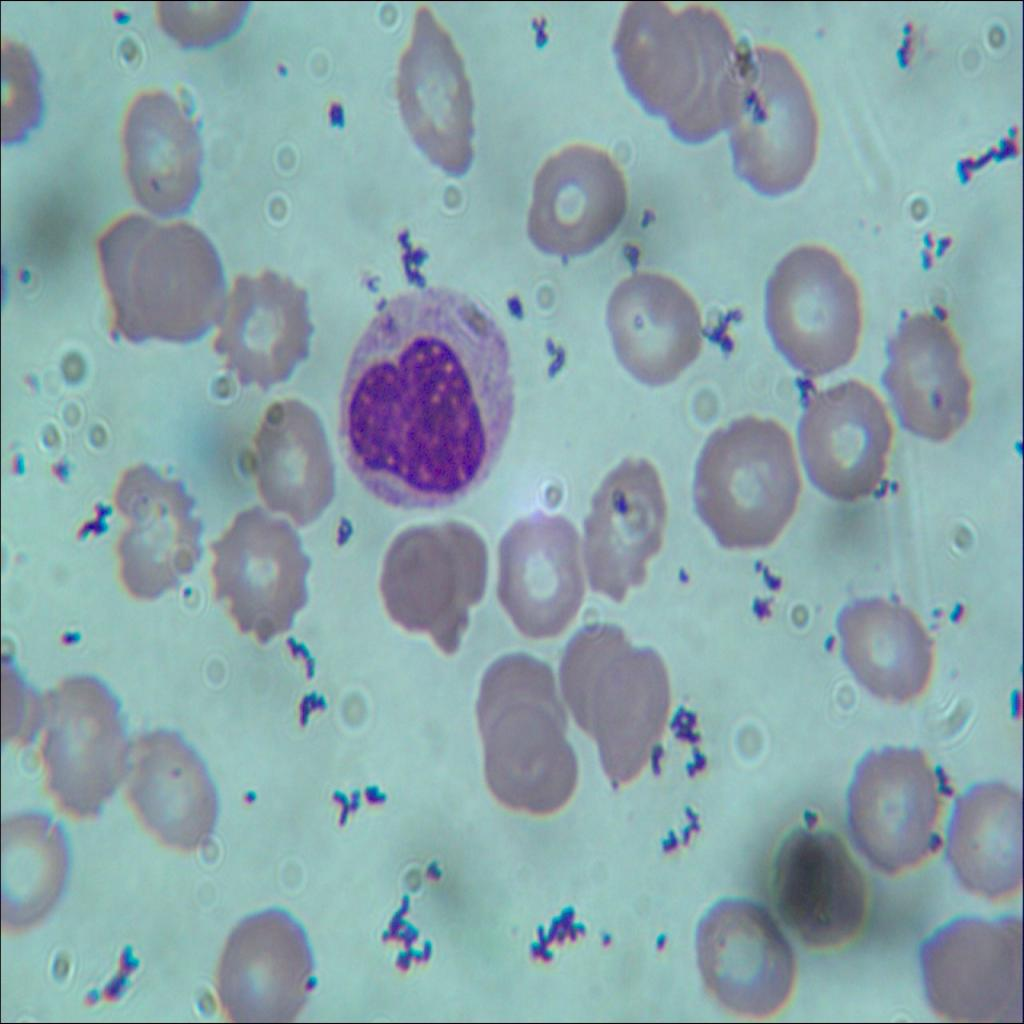Eritrosit: (389, 5, 488, 178), (718, 48, 818, 198), (114, 722, 218, 862), (880, 302, 978, 450), (213, 504, 321, 638), (690, 894, 801, 1023), (768, 825, 870, 961), (758, 239, 860, 375), (694, 415, 803, 542), (603, 261, 706, 394), (38, 671, 128, 823), (526, 144, 635, 268), (494, 509, 594, 642), (208, 901, 316, 1023), (578, 452, 666, 601), (838, 588, 942, 714), (378, 524, 488, 642), (798, 378, 896, 508), (478, 694, 582, 815), (102, 464, 202, 589), (218, 265, 320, 387), (118, 84, 208, 218), (670, 2, 748, 155), (919, 909, 1023, 1023), (846, 746, 938, 874), (606, 0, 705, 118), (476, 641, 570, 761), (593, 645, 671, 785), (938, 779, 1024, 900), (254, 392, 334, 520), (0, 824, 82, 936), (558, 611, 634, 731), (0, 45, 42, 158)
Limfoblast: (344, 292, 518, 508)
Platelet: (586, 922, 618, 961), (229, 781, 259, 820), (794, 801, 822, 841), (322, 97, 351, 134), (501, 288, 528, 327), (263, 52, 293, 86), (108, 4, 133, 41), (11, 262, 38, 296), (644, 930, 671, 961), (676, 551, 698, 589), (816, 625, 838, 657), (302, 968, 318, 1002)
